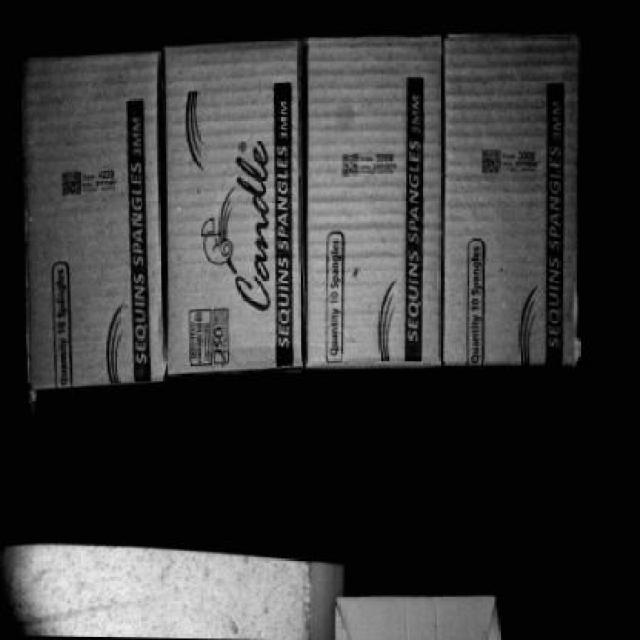cardboxes: (18, 54, 171, 388), (307, 32, 447, 363), (161, 54, 305, 375), (444, 35, 584, 362)
